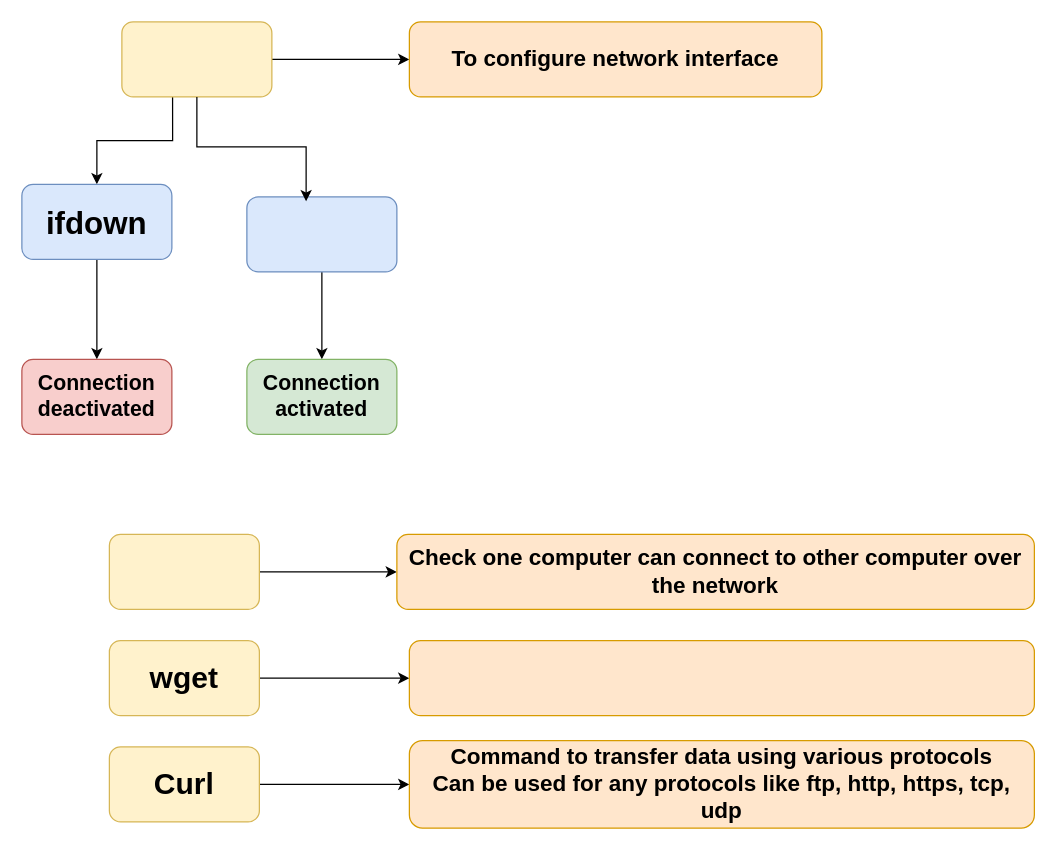
Some shapes in this 1056 by 850 pixel diagram are drawn without their labels. The centre of each missing label's shape, as x and y in pixels:
Command used to retrieve content from web servers Can be used for http and https: the point at 721,677
ifconfig: the point at 196,59
ifup: the point at 321,234
ping: the point at 183,571
